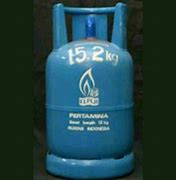blue_gas: (45, 1, 135, 179)
